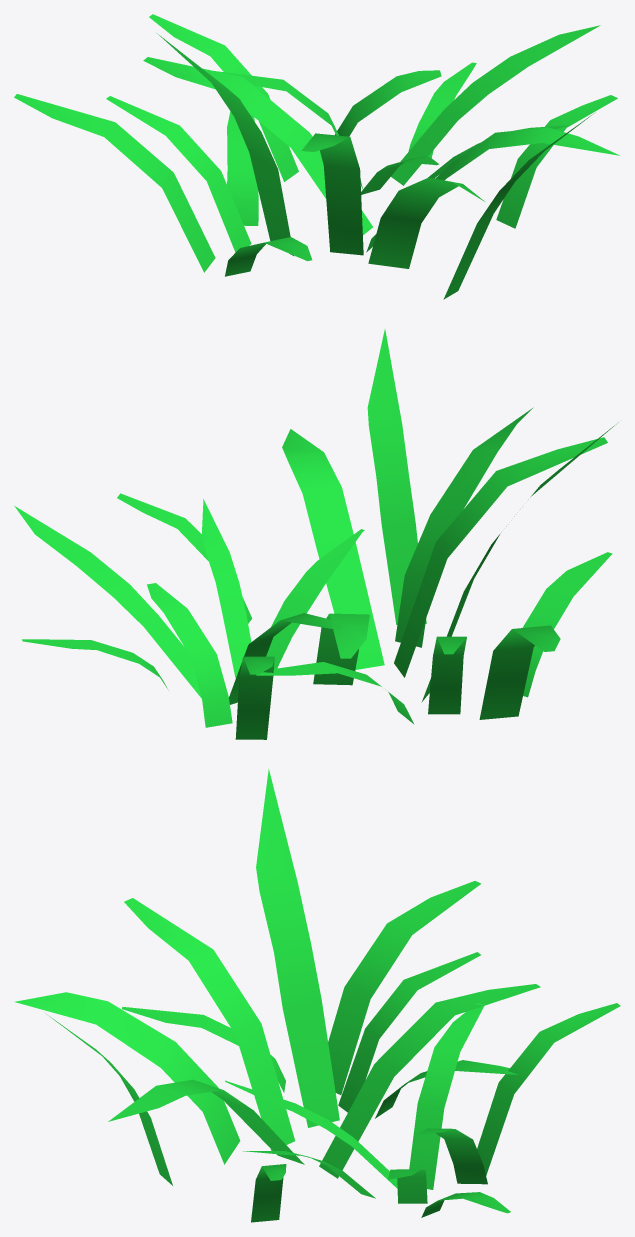
The model's file is 1grass.fbx.
The picture shows the model from 3 angles, top to bottom: view 1: azimuth 30°, elevation 25°; view 2: azimuth 150°, elevation 25°; view 3: azimuth 270°, elevation 25°; orthographic projection. The views are drawn at different scales.
Visible parts, largest first — view 1: Grass; view 2: Grass; view 3: Grass.
Part boxes in pixels (x1,y1,x2,y2): Grass: (14,14,619,299); Grass: (14,329,618,739); Grass: (14,769,620,1222).
Bounding box in the file's own units: 1298 × 653 × 1234.
